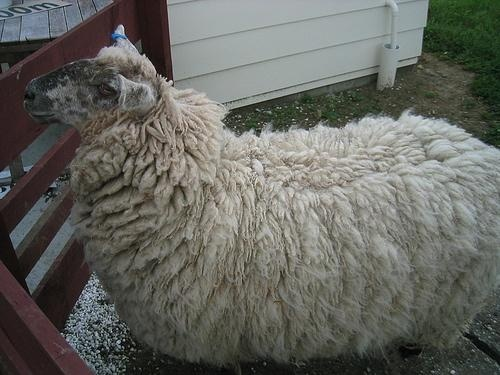sheep: (24, 28, 499, 368)
